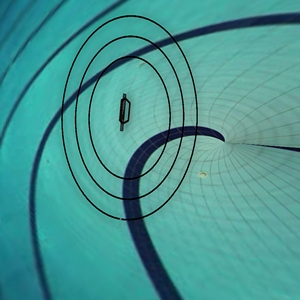circle: (46, 14, 221, 220)
submarine: (101, 86, 151, 139)
